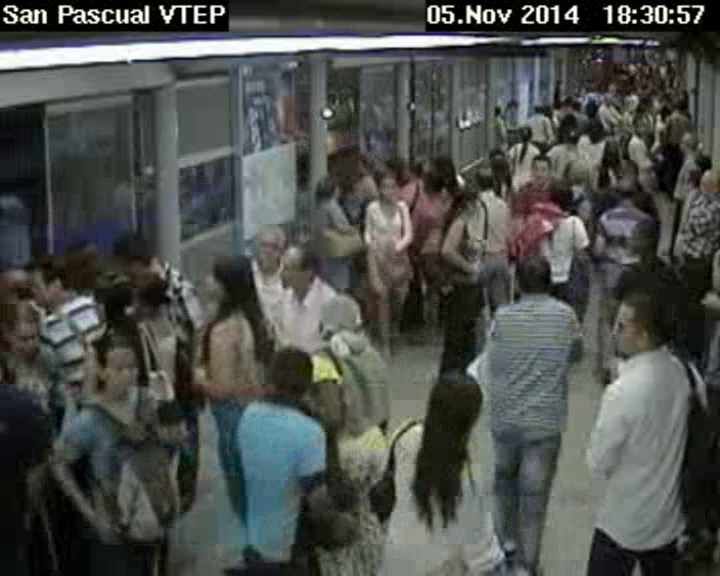person: (427, 364, 486, 438), (604, 289, 667, 352), (87, 333, 141, 397), (266, 343, 316, 406), (206, 253, 259, 308), (319, 296, 370, 350), (126, 266, 182, 312), (91, 279, 136, 332), (621, 215, 667, 265), (6, 300, 45, 358), (26, 258, 74, 302), (512, 245, 548, 301), (104, 232, 160, 266), (67, 241, 107, 286), (281, 245, 316, 295), (251, 217, 285, 265), (564, 157, 593, 192), (482, 147, 511, 180), (452, 189, 483, 219), (527, 153, 554, 187), (417, 165, 445, 197), (618, 157, 643, 191), (601, 136, 622, 173), (472, 161, 496, 193), (379, 153, 411, 177), (377, 175, 403, 204), (549, 179, 571, 213), (312, 177, 344, 200), (678, 130, 701, 155), (696, 168, 720, 191), (354, 150, 375, 176), (629, 114, 648, 137), (564, 125, 581, 144), (519, 123, 532, 144), (675, 97, 686, 114), (601, 94, 615, 107), (504, 99, 519, 110), (535, 102, 547, 115), (490, 105, 503, 117), (563, 116, 577, 126)
